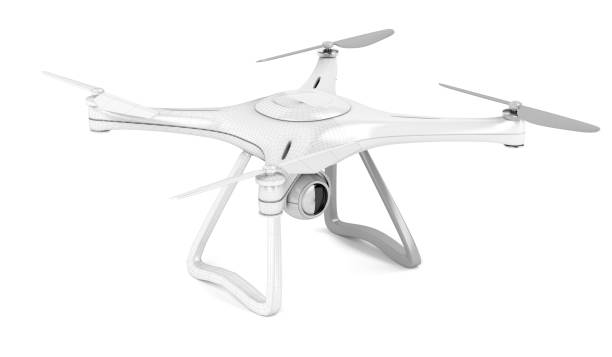Drone: (32, 23, 598, 317)
